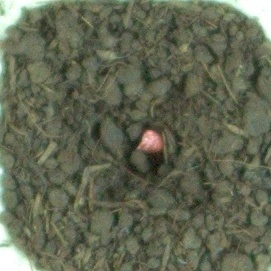pepper seed: (50, 48, 218, 204)
